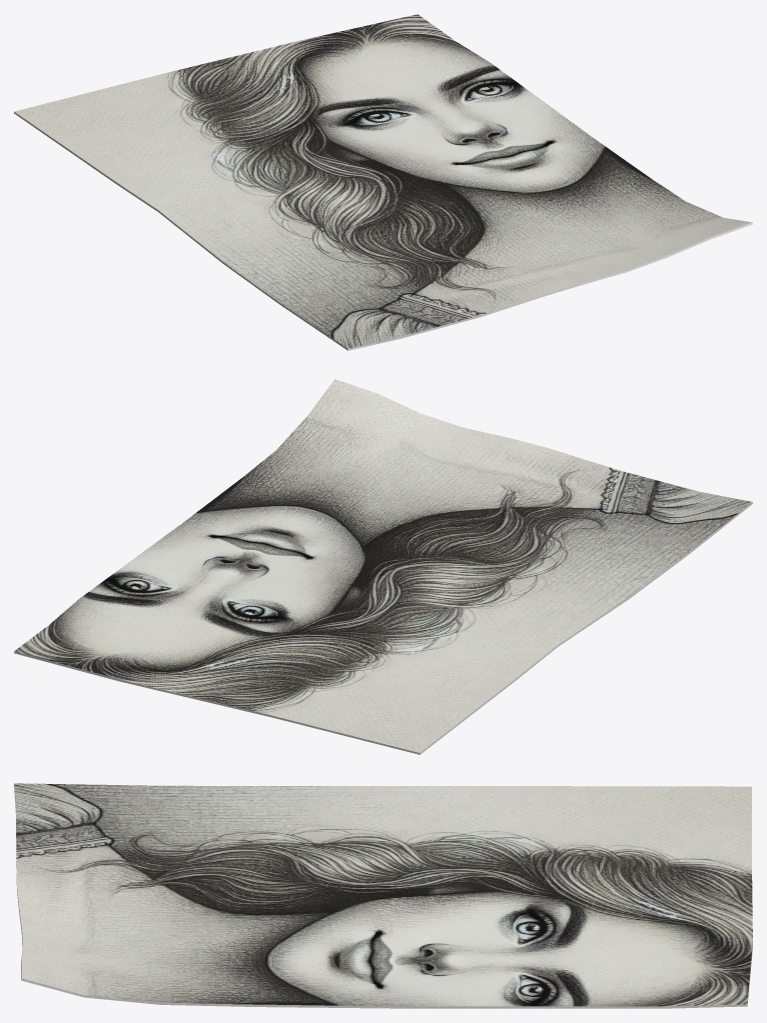
Rendered from SM_Sheet_1.glb.
3 views of the same model, one above another, from view 1: azimuth 30°, elevation 25°; view 2: azimuth 150°, elevation 25°; view 3: azimuth 270°, elevation 25° (orthographic). The views are drawn at different scales.
Visible parts, largest first — view 1: SM_Sheet_1; view 2: SM_Sheet_1; view 3: SM_Sheet_1.
Part boxes in pixels (x1,y1,x2,y2): SM_Sheet_1: (14, 14, 752, 350); SM_Sheet_1: (14, 379, 752, 754); SM_Sheet_1: (14, 783, 752, 1008).
Size of the model in its own units: 0.3415 by 0.0244 by 0.4767.
2 materials, 2 textured.
